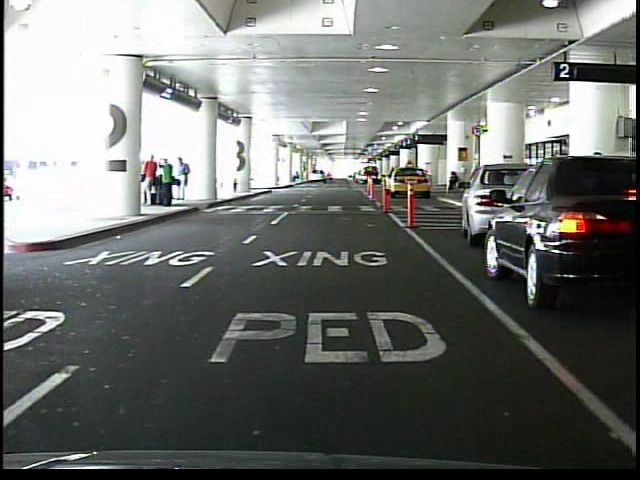person: (145, 152, 159, 207), (161, 157, 174, 208), (177, 157, 191, 202), (445, 171, 460, 195)
